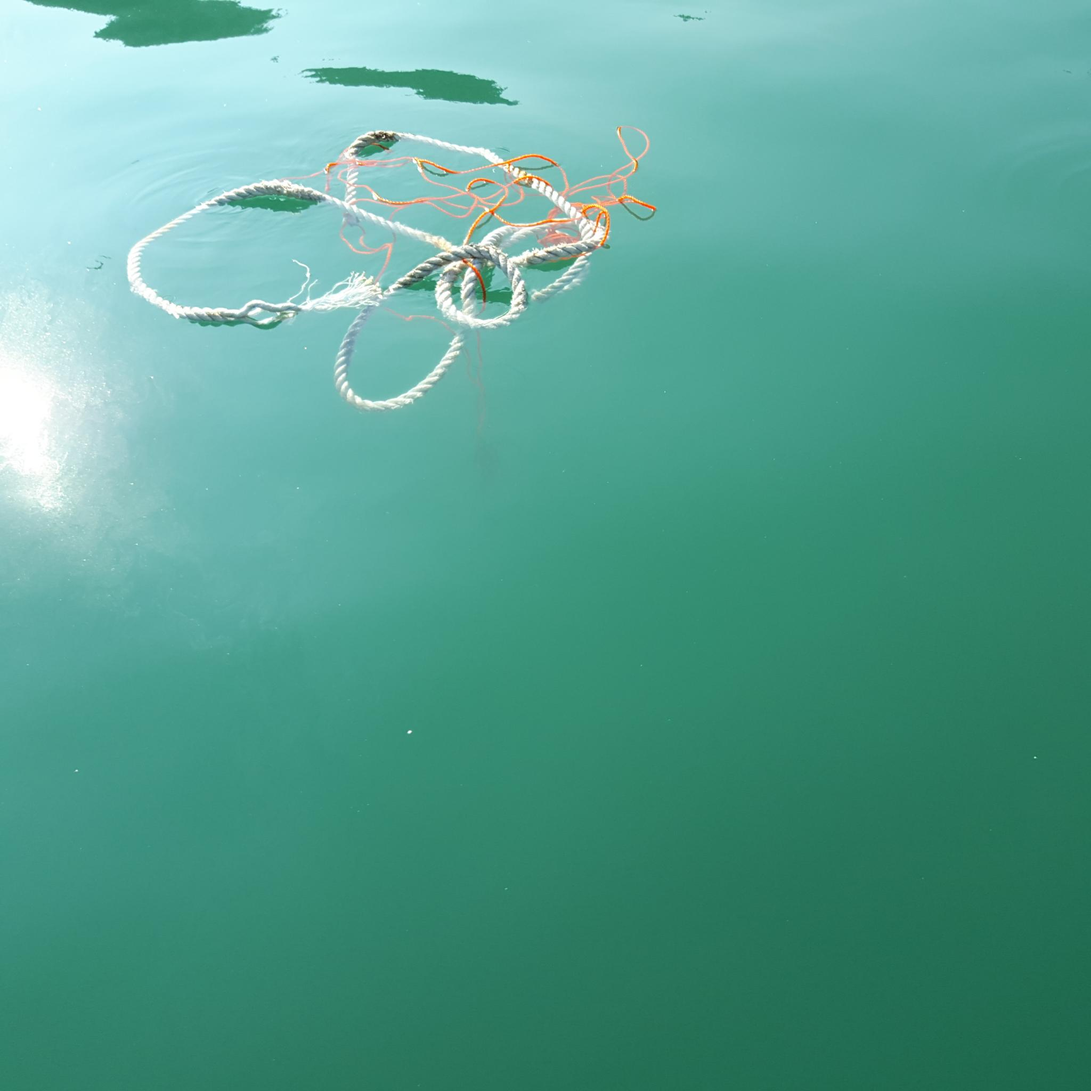sampah_terapung: (127, 126, 657, 437)
